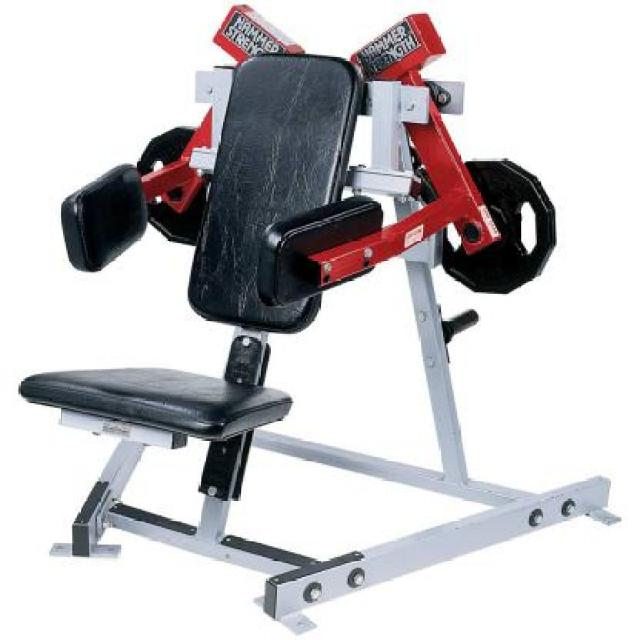lateral raises machine: (20, 5, 623, 632)
